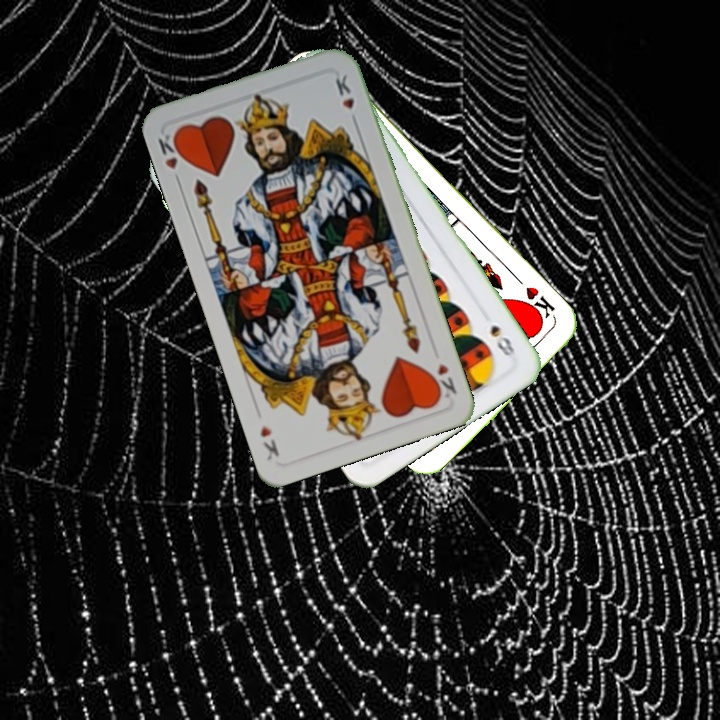HK: (154, 127, 188, 188), (518, 282, 558, 325), (427, 359, 459, 402)
S8: (486, 321, 518, 359)
